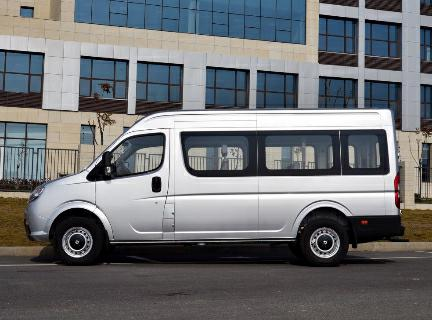东风-御风: (23, 104, 412, 265)
